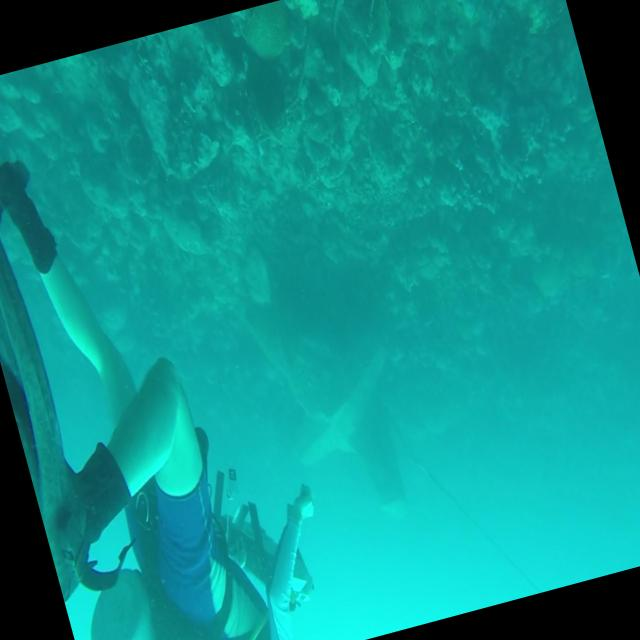human: (0, 105, 351, 640)
